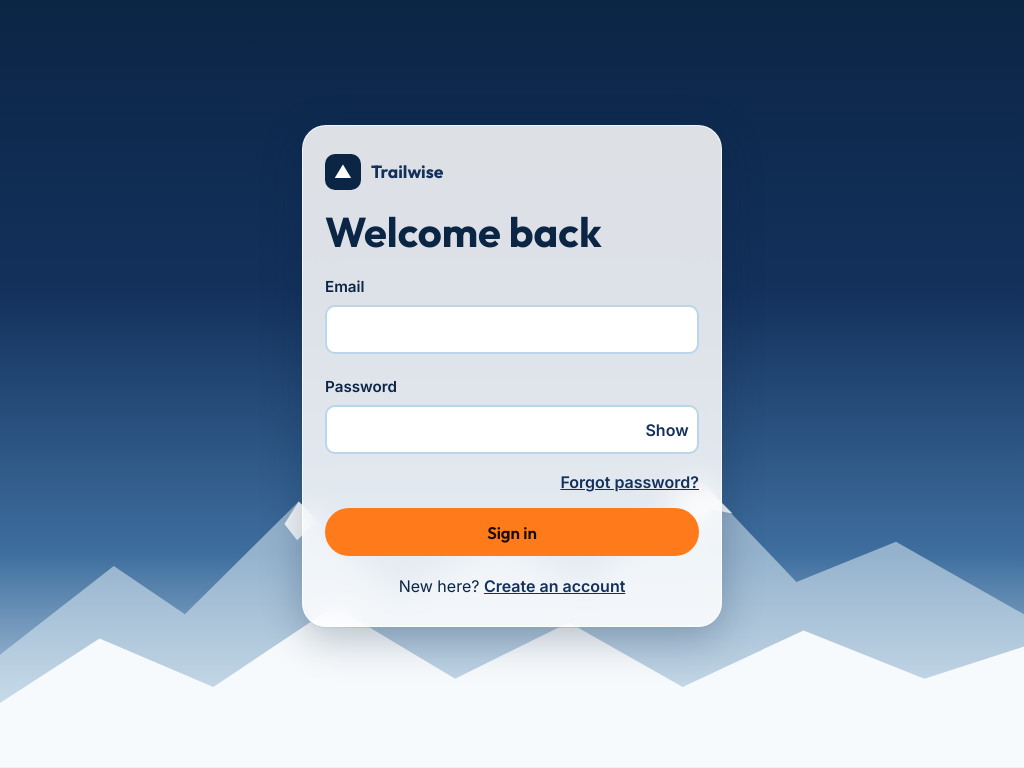
Sign in › links to forgot password
Click the link "Forgot password?" at (630, 482), box [560,470,699,494]
(page scrolled)
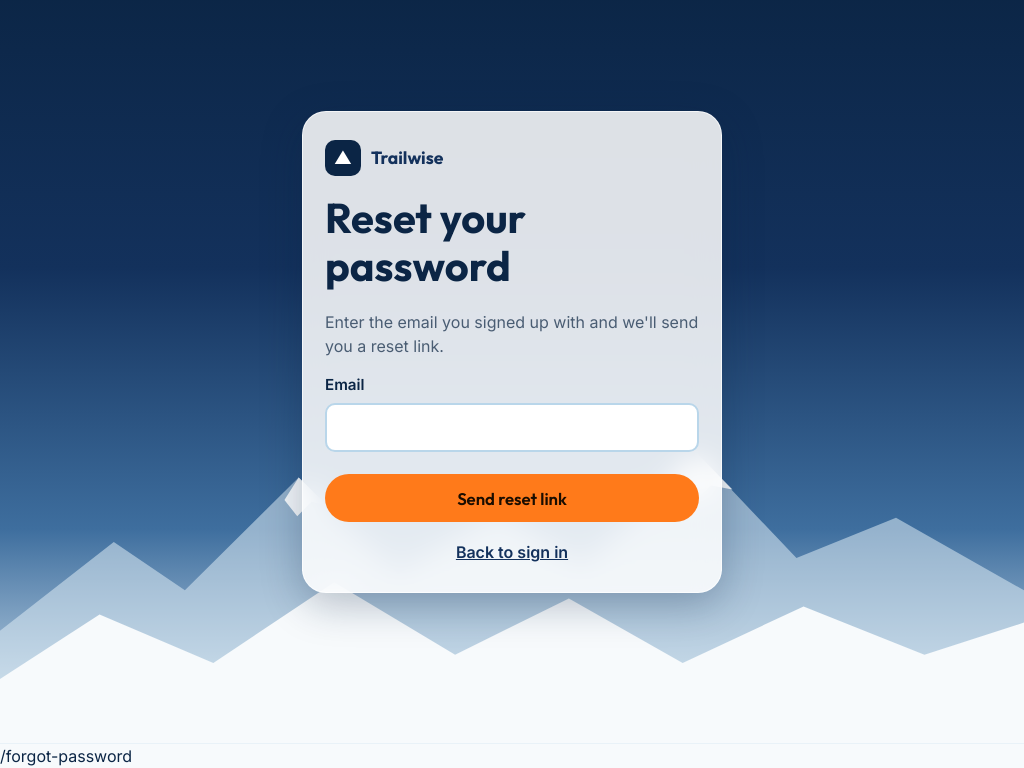
Expected: the text with test id "location" reads "/forgot-password", [0,746,132,766]
